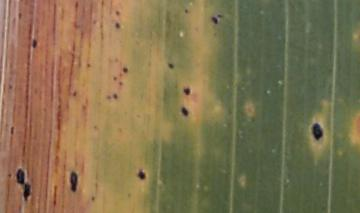tarspot: (69, 170, 78, 193), (16, 167, 25, 184), (23, 181, 31, 200), (313, 123, 322, 139), (137, 169, 146, 181), (182, 86, 191, 96), (209, 15, 218, 24), (30, 38, 38, 48), (181, 106, 189, 116), (113, 8, 121, 17), (112, 90, 119, 100), (104, 93, 112, 101), (9, 126, 15, 136), (167, 61, 174, 69), (114, 21, 121, 29), (7, 83, 14, 91), (183, 8, 190, 14), (122, 66, 128, 73), (85, 62, 92, 68), (91, 194, 96, 202), (72, 89, 77, 97), (118, 80, 123, 87), (18, 12, 22, 20), (7, 172, 12, 178), (112, 75, 117, 81)
